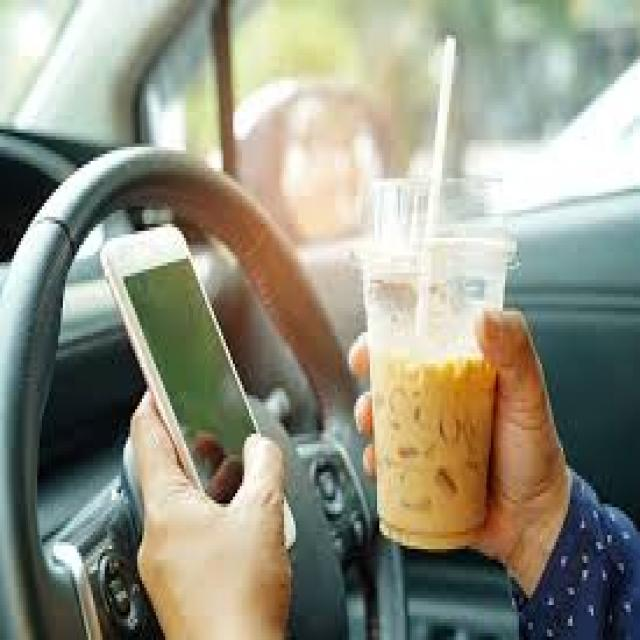Cellphone_texting: (95, 196, 308, 629)
